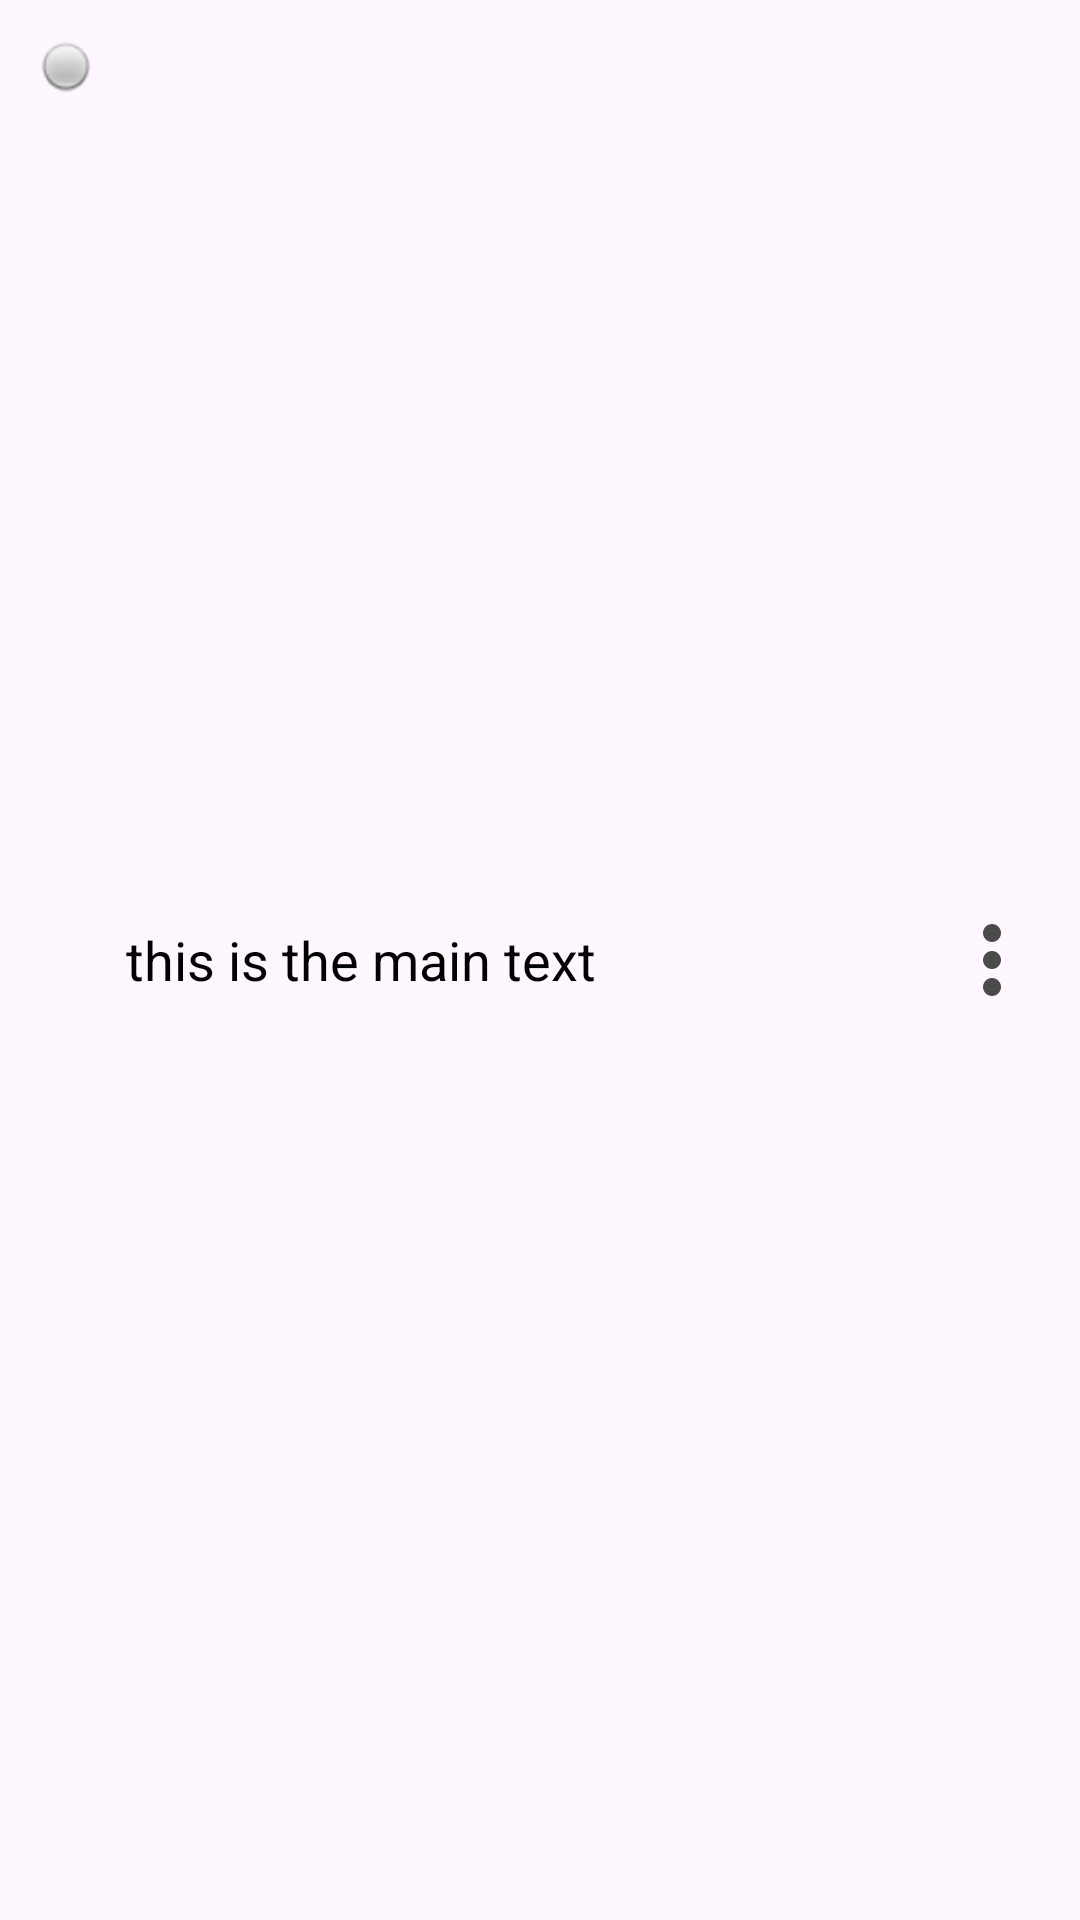

Screen size 1080x1920. Icon name, then its box in pixels as [x1=x1, y1=y1, x2=x2, y2=y2]:
more vartcal: [x1=983, y1=924, x2=1001, y2=996]
